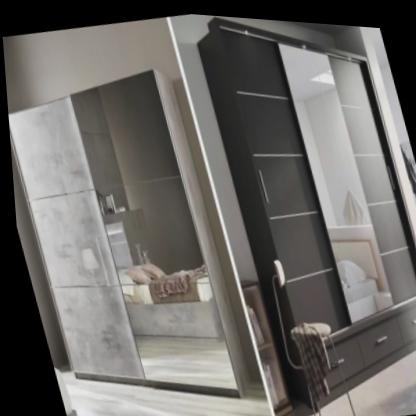Bed: (99, 195, 219, 349)
Chair: (257, 245, 351, 416)
Closet: (189, 11, 416, 416), (3, 49, 253, 416)
